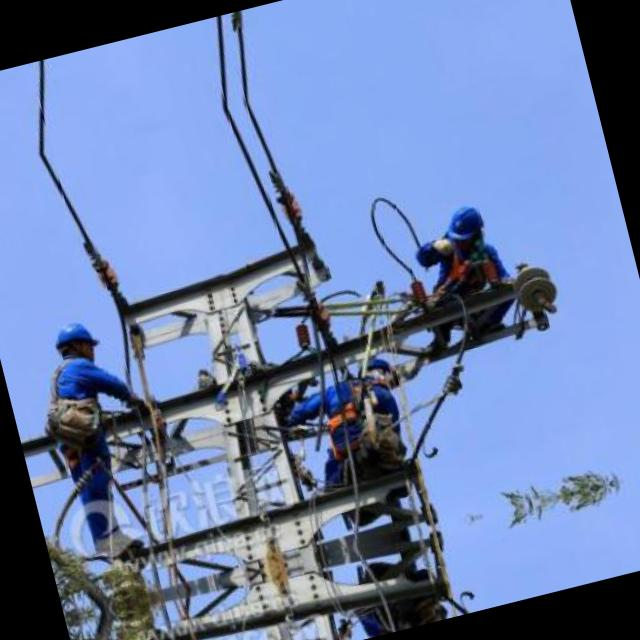helmet: (47, 314, 99, 368), (438, 196, 488, 249)
